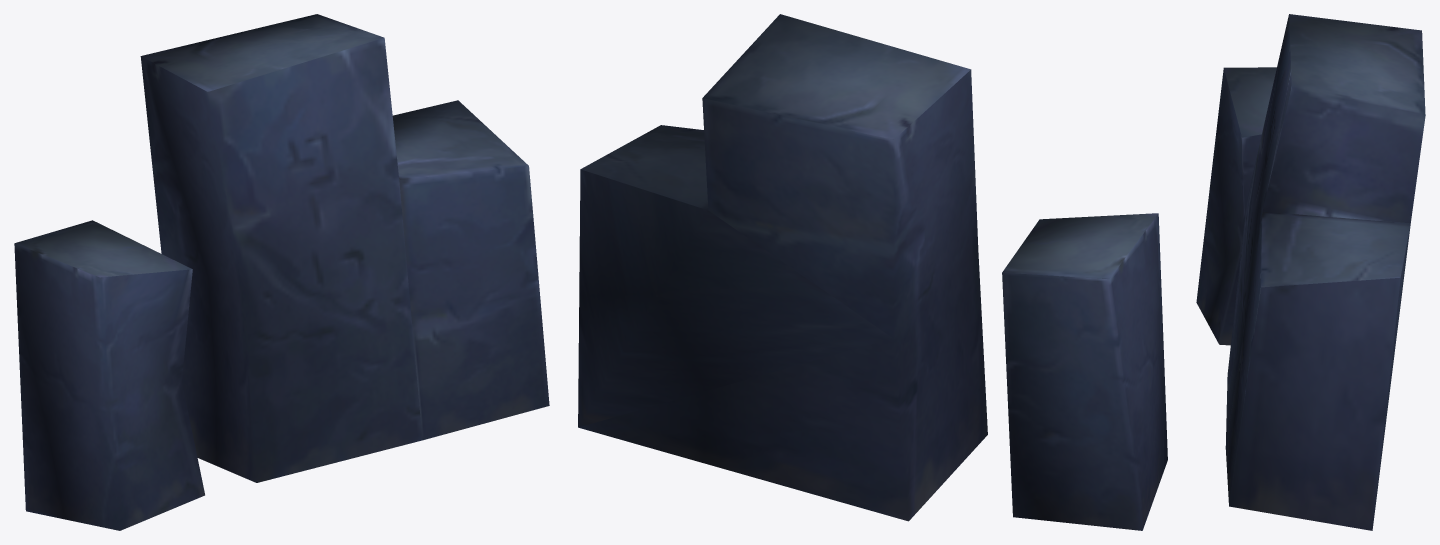
The model's file is Area_01_5.fbx.
3 views of the same model, side by side, from view 1: azimuth 30°, elevation 25°; view 2: azimuth 150°, elevation 25°; view 3: azimuth 270°, elevation 25° (orthographic). The views are drawn at different scales.
Visible parts, largest first — view 1: Area_01_5; view 2: Area_01_5; view 3: Area_01_5.
Boxes of the visible parts, x1,y1,x2,y2 form: Area_01_5: (14,14,549,530); Area_01_5: (578,14,1167,530); Area_01_5: (1196,14,1425,530).
Bounding box in the file's own units: 983 × 757 × 412.
